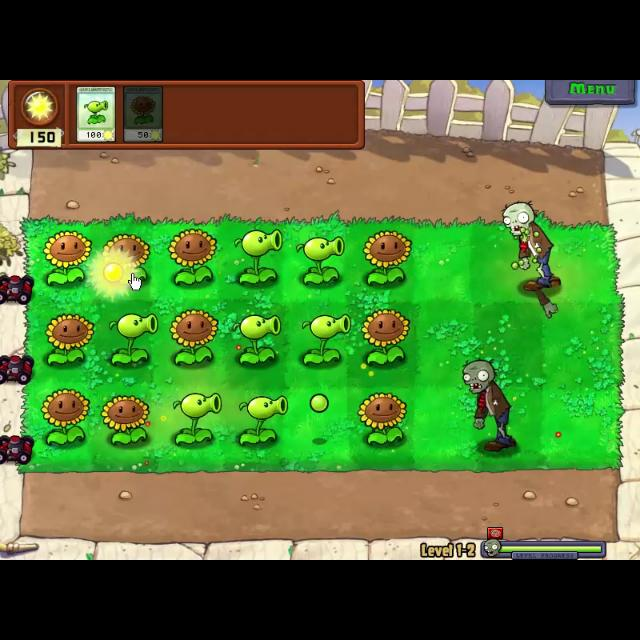Garden: (18, 216, 626, 477)
Menu Button: (542, 80, 634, 104)
Mower: (0, 349, 36, 388), (1, 268, 36, 308), (0, 430, 32, 466)
Peashooter: (77, 86, 117, 144)
Peashooter Seed: (170, 388, 226, 449), (235, 391, 293, 449), (292, 231, 352, 287), (230, 308, 282, 369), (110, 310, 160, 370), (303, 310, 353, 368), (235, 228, 283, 288)
Seed Panel: (6, 80, 366, 154)
Sun: (83, 248, 141, 298)
Sunflower: (123, 82, 165, 144)
Sunflower Seed: (364, 225, 416, 289), (358, 308, 414, 366), (99, 390, 155, 448), (40, 388, 92, 448), (99, 234, 155, 288), (166, 226, 218, 284), (168, 310, 218, 368), (42, 227, 90, 287), (356, 392, 408, 446), (43, 312, 91, 368)
Zombie: (459, 354, 527, 460), (502, 202, 562, 284)
